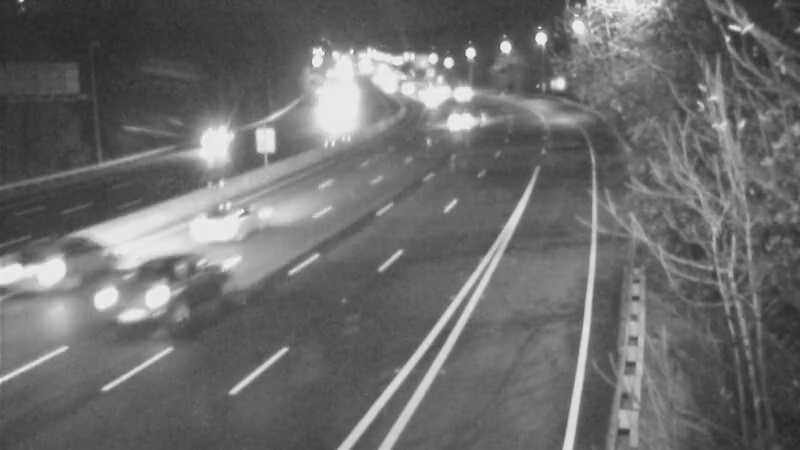vehicle: (101, 254, 211, 364), (173, 177, 253, 257), (167, 110, 247, 190), (1, 234, 79, 314), (438, 70, 488, 120), (410, 72, 460, 122), (429, 94, 479, 144)
